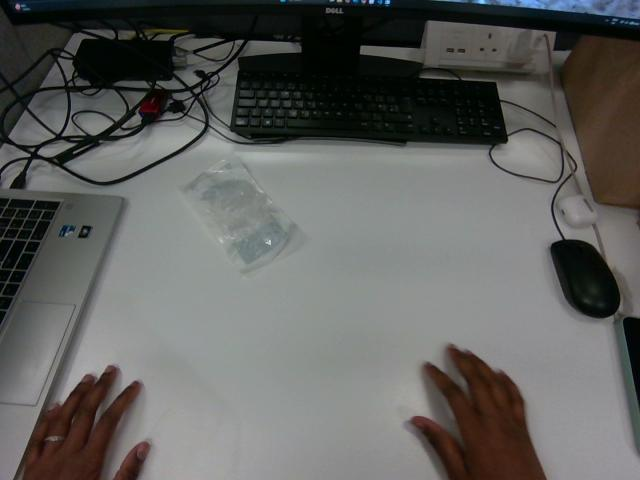gallipot: (182, 156, 293, 272)
